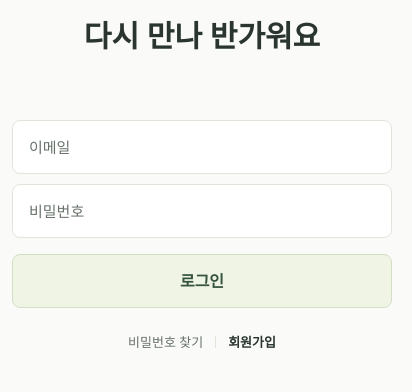
Test: LoginPage › 이메일 형식이 아니면 알려 준다
This screenshot has width=412, height=392.
Type "teacher" into the field labelled "이메일" at (202, 147), box [12, 120, 392, 174]
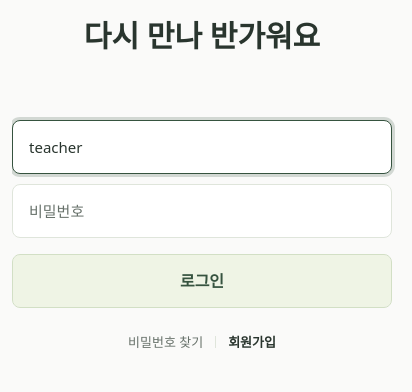
Type "secret" into the password field labelled "비밀번호" at (202, 211), box [12, 184, 392, 238]
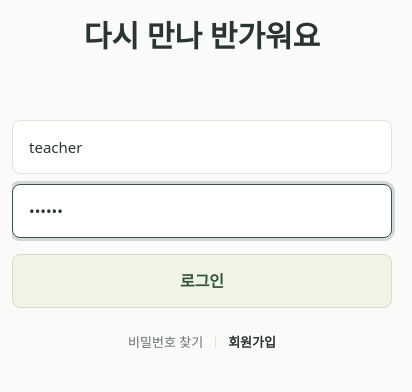
Click the button "로그인" at (202, 281), box [12, 254, 392, 308]
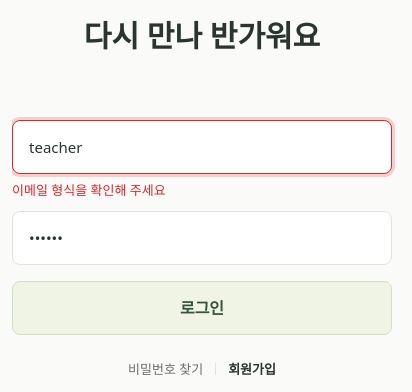
Expected: the text "이메일 형식을 확인해 주세요" is shown, [12, 181, 166, 199]
